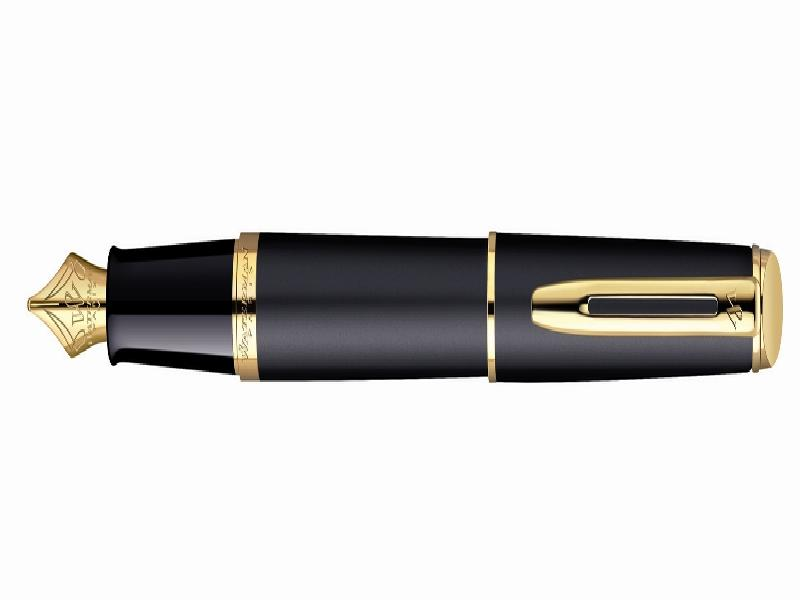pen: (10, 223, 794, 388)
